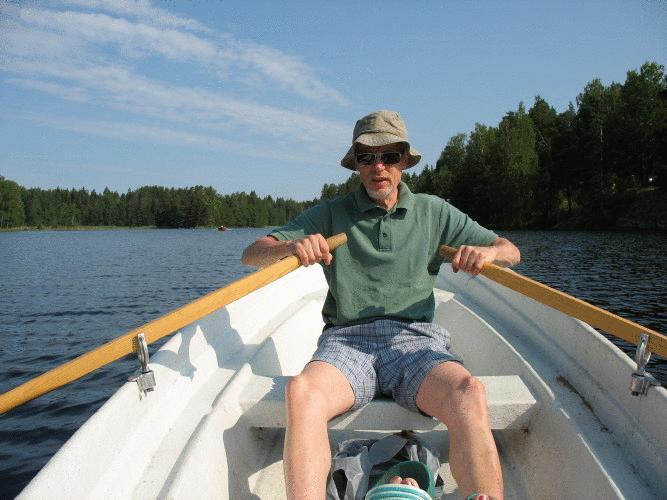person: (239, 111, 524, 500)
